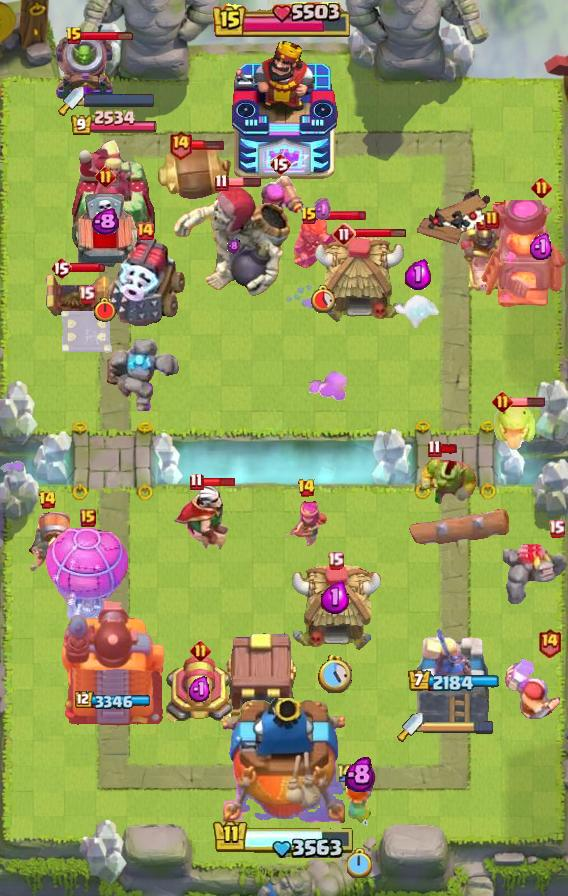bar: (70, 138, 158, 256), (414, 623, 492, 731)
bat: (394, 292, 442, 332)
bomb: (220, 630, 300, 724)
cannon: (283, 500, 329, 548)
cannon-cart: (44, 521, 132, 629)
clock: (212, 819, 356, 861), (213, 2, 355, 40)
electro-giant: (172, 186, 294, 298)
electro-spirit: (345, 756, 375, 792), (321, 582, 349, 615), (405, 259, 431, 290), (91, 208, 119, 236), (529, 233, 554, 261), (188, 676, 212, 703), (313, 197, 333, 223), (228, 238, 241, 254)
electro-wizard: (491, 400, 537, 452)
elixir: (318, 655, 352, 693), (309, 283, 337, 312), (347, 848, 373, 878), (93, 297, 117, 323)
elixir-golem-mid: (70, 192, 140, 278)
emote: (317, 209, 368, 222), (82, 31, 135, 42), (353, 229, 406, 240), (226, 176, 262, 188), (70, 262, 106, 274), (510, 396, 546, 408), (202, 476, 238, 488), (191, 139, 225, 151), (440, 443, 459, 455)
flying-machine: (418, 452, 478, 506)
freeze: (458, 222, 526, 296)
goblin-brawler: (42, 272, 114, 320)
goblin-cage: (53, 33, 117, 103)
golem: (103, 236, 187, 326)
hog-rider: (341, 777, 379, 829)
hunter: (480, 200, 568, 310)
ice-spirit-evolution-symbol: (59, 306, 113, 356)
king-tower: (223, 698, 345, 826), (230, 41, 338, 181)
king-tower-bar: (84, 93, 156, 107), (423, 720, 495, 734)
knight: (22, 509, 72, 573)
mighty-miner: (504, 657, 568, 723)
minion: (405, 507, 511, 551)
prince: (314, 235, 408, 325), (288, 563, 382, 653)
royal-recruit: (164, 654, 236, 728)
selected: (70, 109, 158, 137), (407, 670, 499, 694), (75, 691, 153, 711)
skeleton-king: (170, 485, 248, 553)
tesla-evolution: (291, 213, 355, 271)
text: (167, 128, 192, 159), (538, 627, 563, 658), (332, 222, 356, 246), (269, 152, 291, 176), (50, 256, 72, 280), (96, 166, 117, 187), (531, 177, 552, 198), (492, 392, 513, 413), (190, 639, 211, 660), (336, 761, 356, 783), (135, 221, 155, 241), (38, 490, 58, 510), (296, 478, 315, 498), (65, 26, 83, 46), (300, 206, 318, 226), (547, 519, 564, 538), (484, 210, 500, 230), (77, 285, 94, 303), (327, 551, 344, 569), (80, 509, 96, 527), (188, 472, 203, 491), (427, 439, 442, 457), (215, 173, 229, 191)
the-log: (154, 147, 234, 201)
tombstone: (256, 173, 305, 225)
tower-bar: (58, 595, 170, 731)
valkyrie-evolution: (107, 339, 183, 417), (502, 543, 568, 605)
